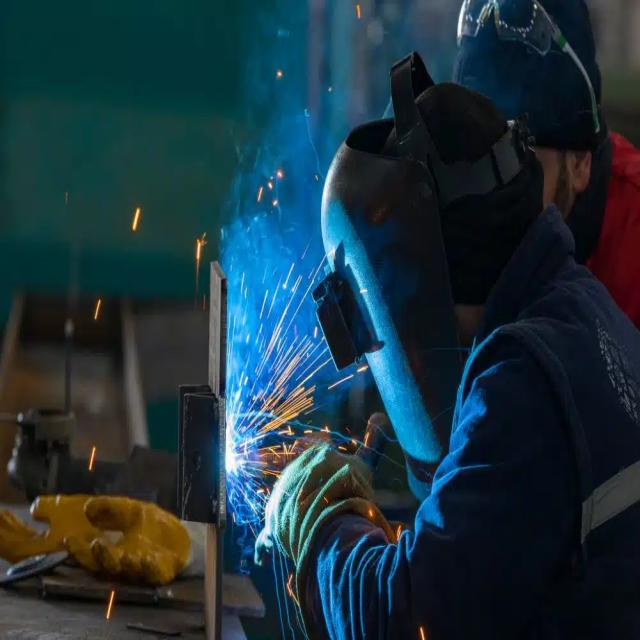welding: (226, 402, 246, 480)
